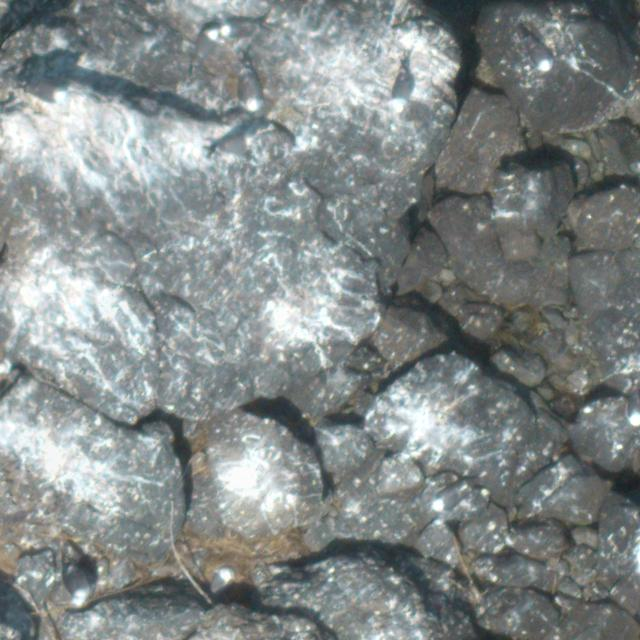umineko: (520, 29, 554, 72), (430, 482, 471, 513), (388, 67, 413, 113), (69, 568, 89, 602), (240, 74, 259, 108), (212, 568, 232, 592), (628, 395, 640, 424)
